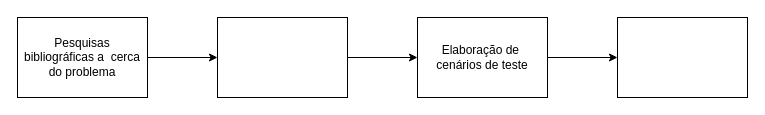
Some shapes in this 765 by 115 pixel diagram are drawn without their labels. The shapes that lost their labels are listed below. From the top down, each one's centre as x and y in pixels, then its label:
At [282,57]: "Implementação de algoritmos".
At [682,57]: "Avaliação dos algoritmos".
